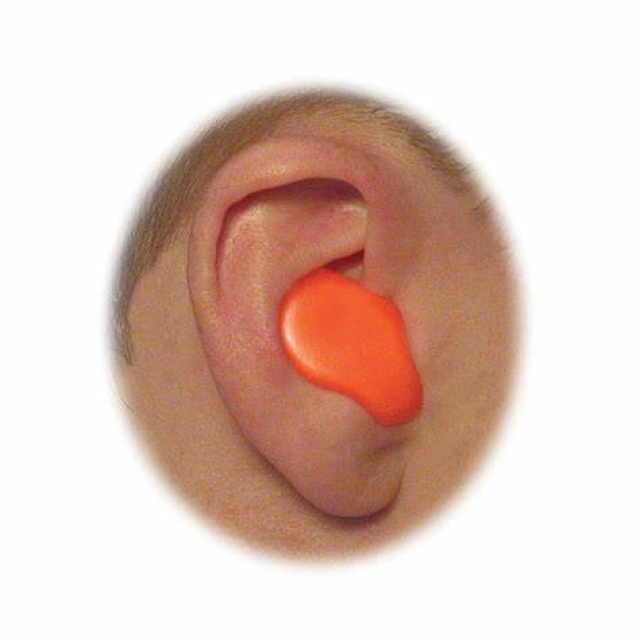Hearing_Protection: (256, 264, 420, 396)
